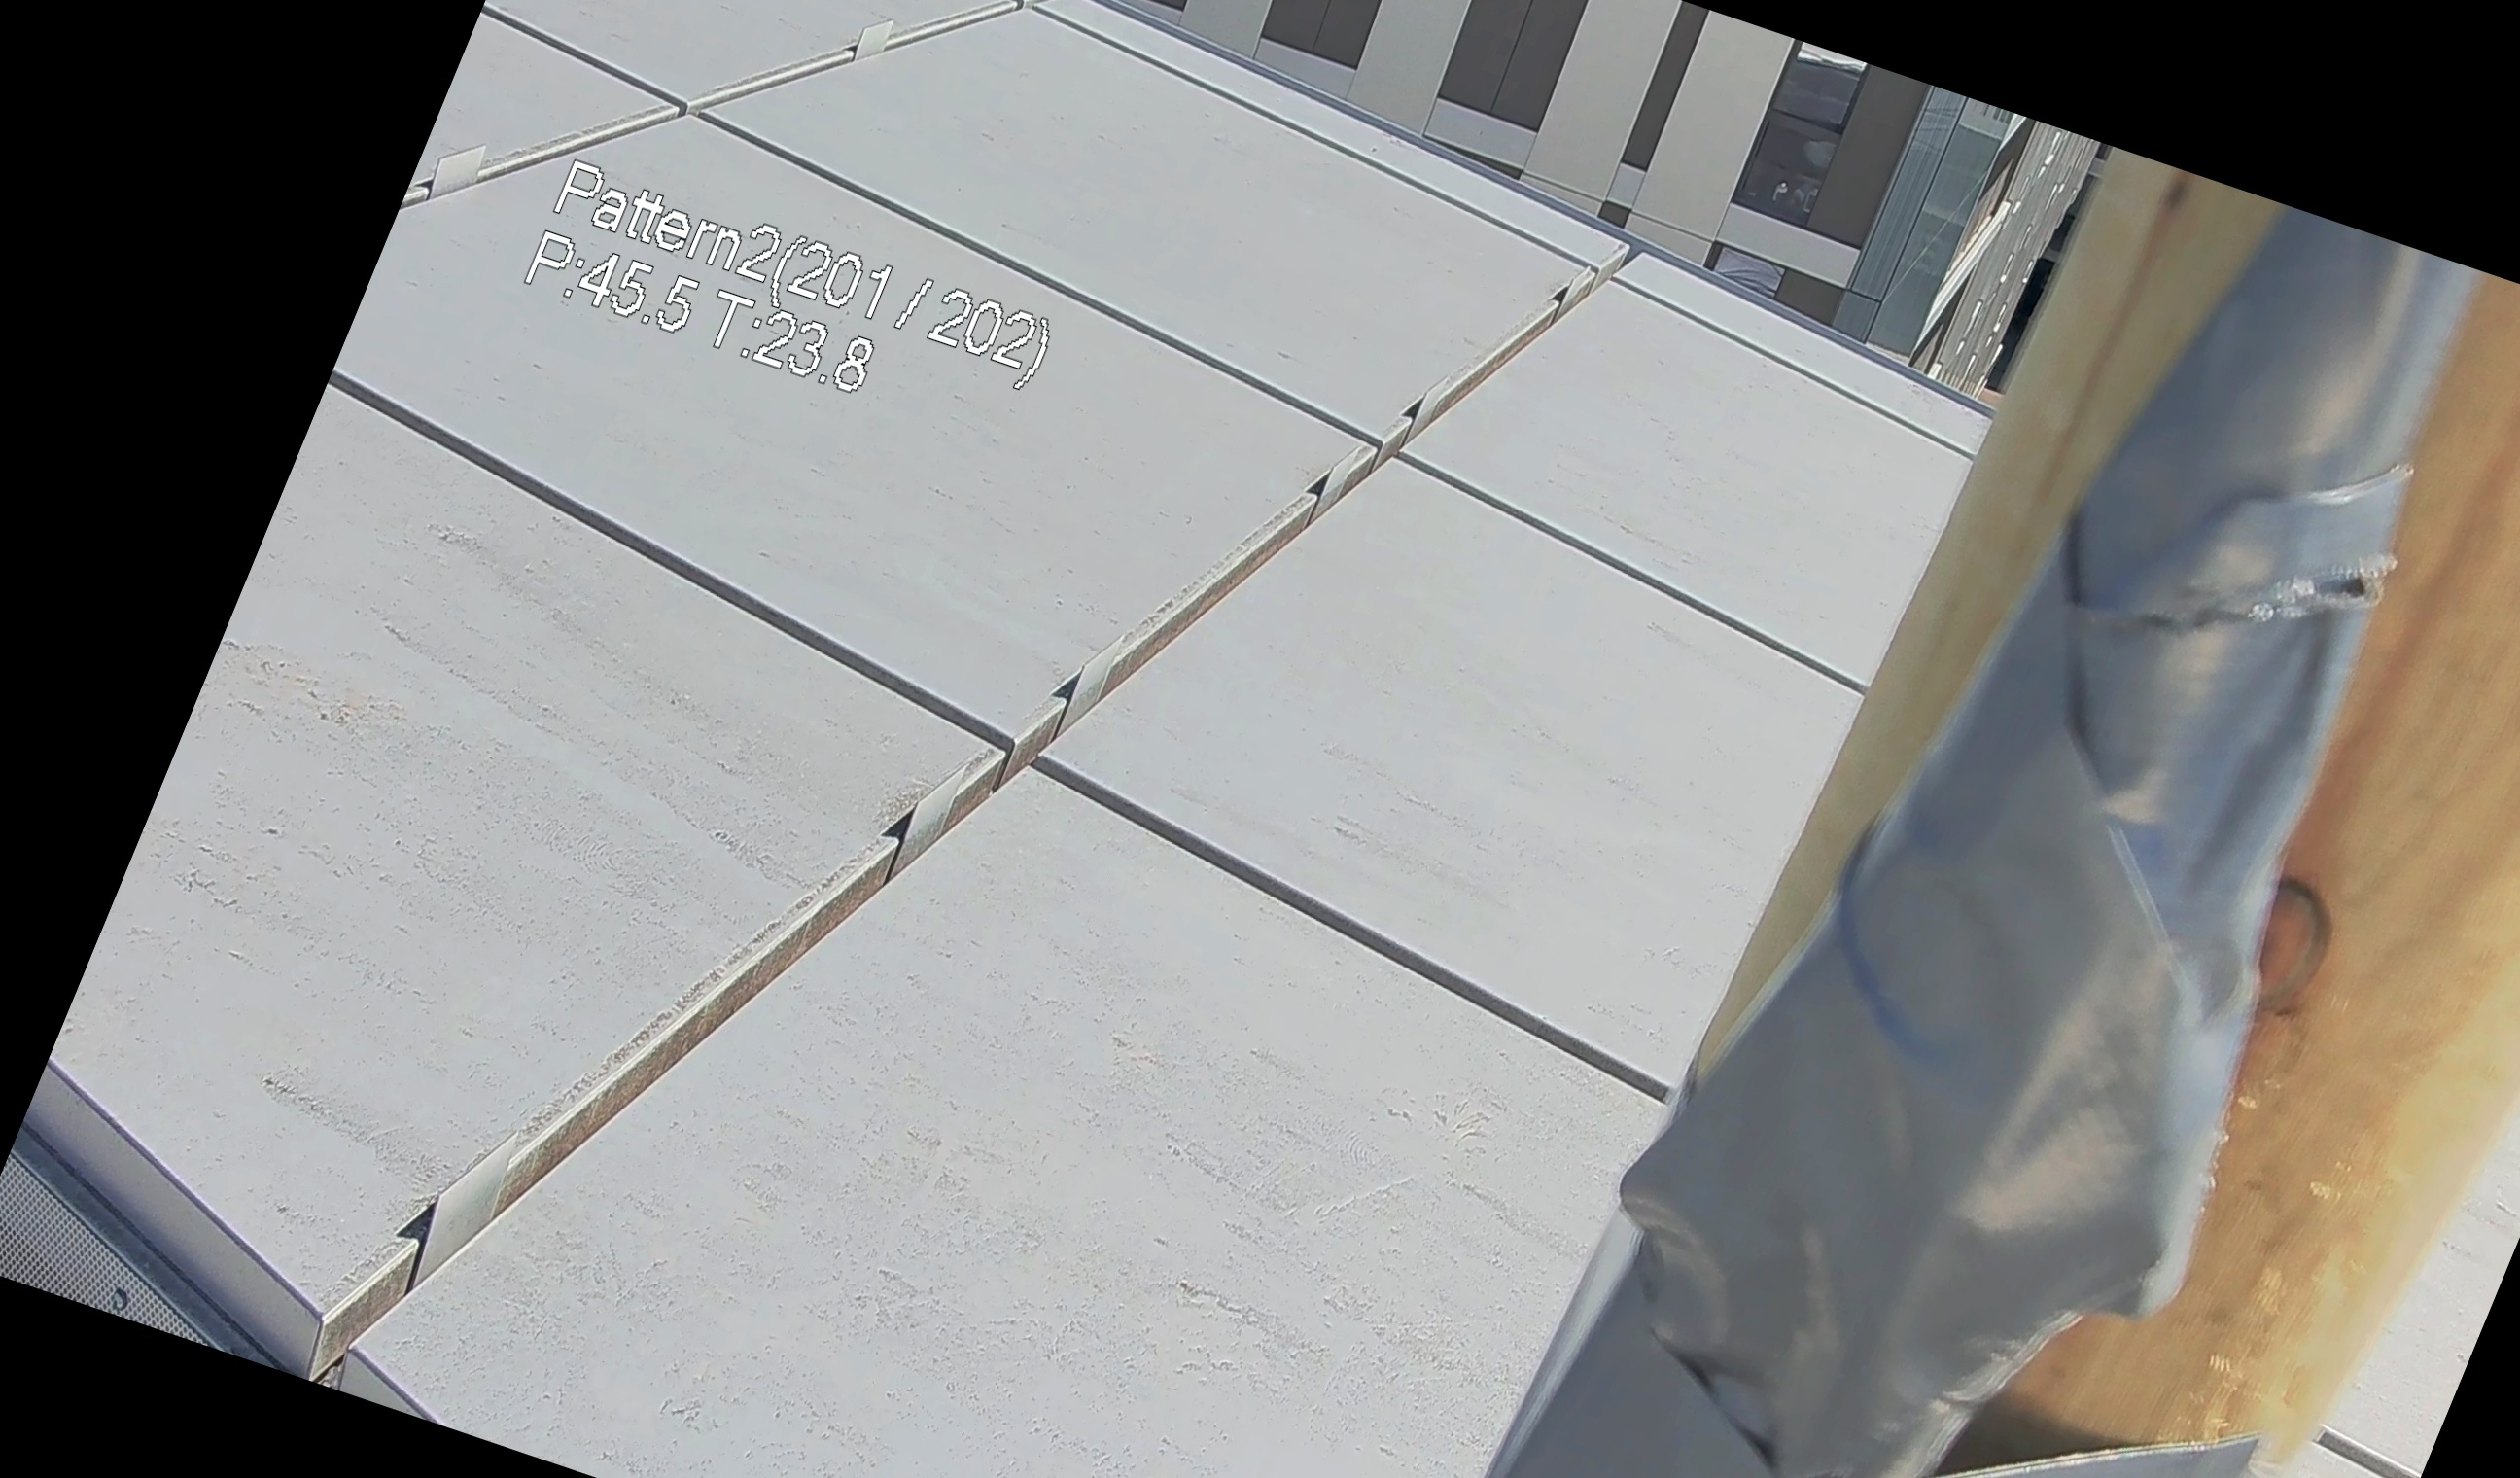Other: (1532, 238, 2520, 1478)
